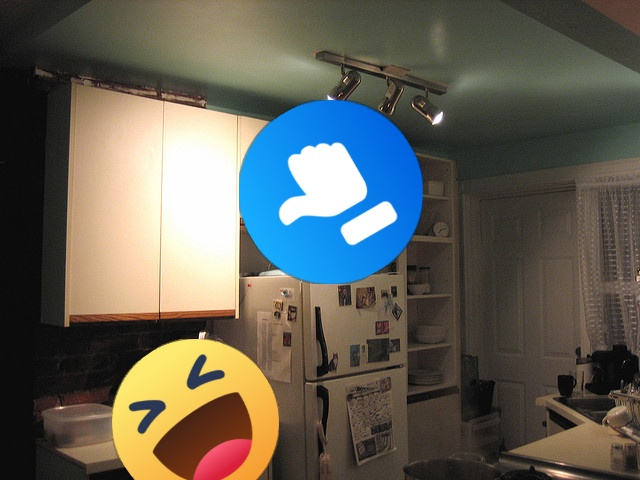haha: (112, 339, 279, 480)
like: (239, 100, 423, 284)
